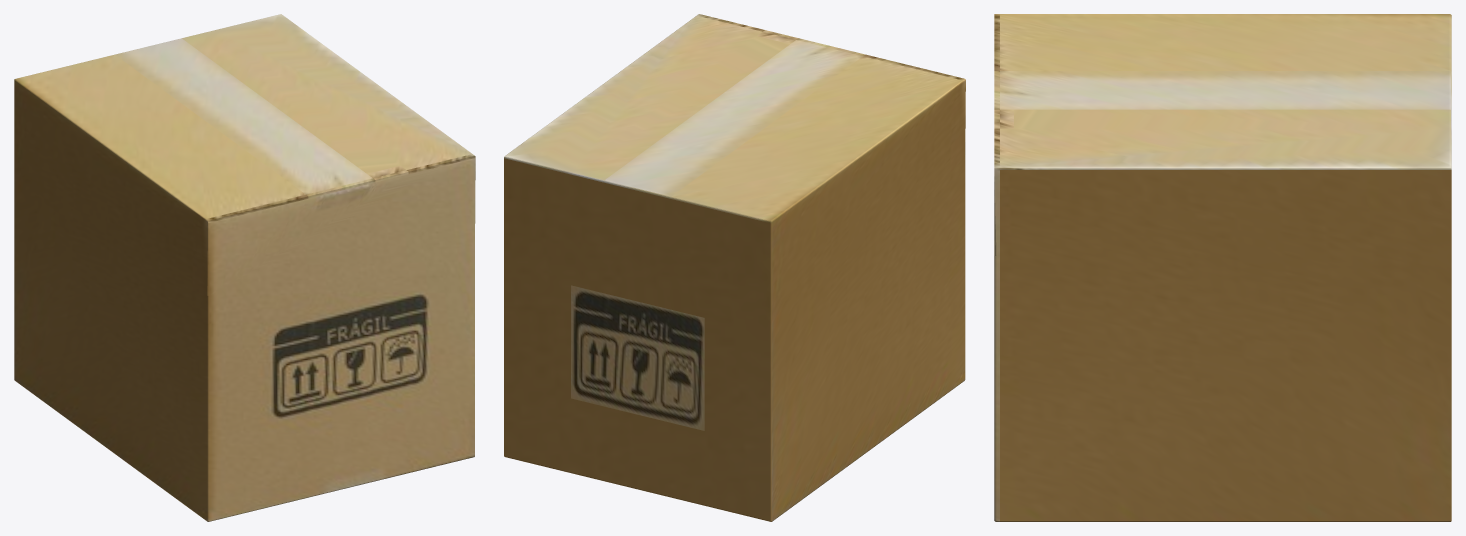
File: parcel-small.glb
3 views of the same model, side by side, from view 1: azimuth 30°, elevation 25°; view 2: azimuth 150°, elevation 25°; view 3: azimuth 270°, elevation 25° (orthographic). The views are drawn at different scales.
Visible parts, largest first — view 1: Box Packaging.002; view 2: Box Packaging.002; view 3: Box Packaging.002.
Part boxes in pixels (bbox=[...]): Box Packaging.002: bbox=[14, 14, 475, 521]; Box Packaging.002: bbox=[504, 14, 965, 521]; Box Packaging.002: bbox=[994, 14, 1451, 521].
Size of the model in its own units: 0.195 by 0.21 by 0.245.
Materials: 1 (1 with a texture image).
